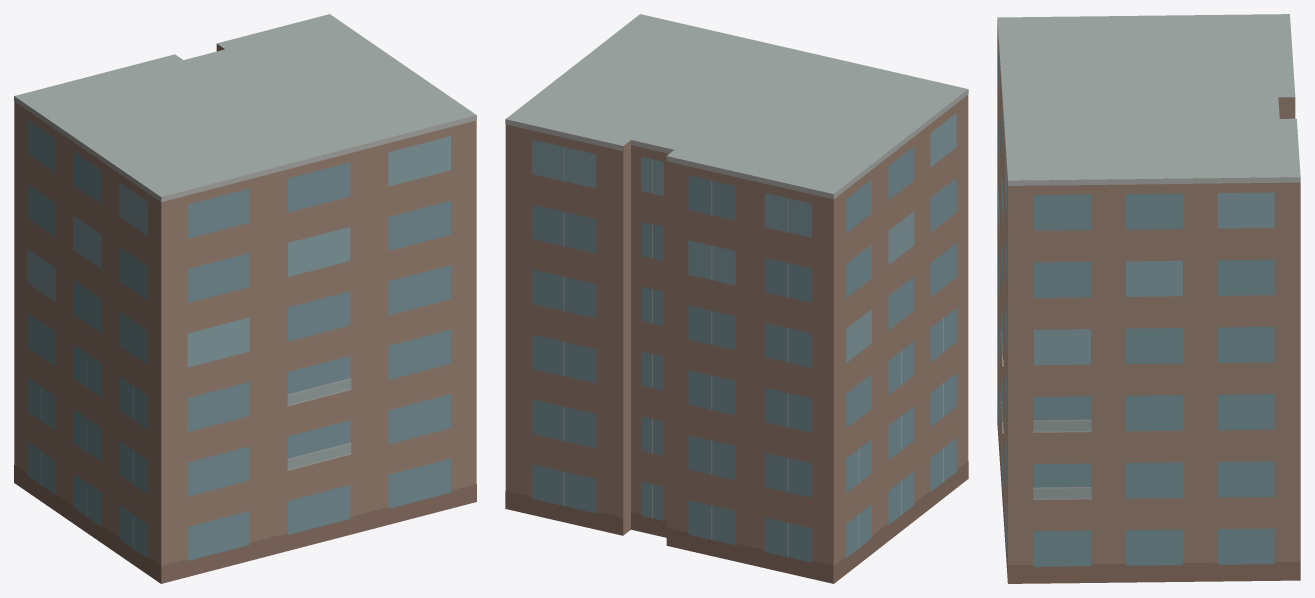
Rendered from survey-upis-32732778.glb.
3 views of the same model, side by side, from view 1: azimuth 30°, elevation 25°; view 2: azimuth 150°, elevation 25°; view 3: azimuth 270°, elevation 25° (orthographic). The views are drawn at different scales.
Parts seen in each view (by area): view 1: survey-upis-32732778.tmp; view 2: survey-upis-32732778.tmp; view 3: survey-upis-32732778.tmp.
Boxes of the visible parts, bbox=[...] form: survey-upis-32732778.tmp: bbox=[14, 14, 476, 583]; survey-upis-32732778.tmp: bbox=[505, 14, 968, 583]; survey-upis-32732778.tmp: bbox=[997, 14, 1300, 583].
Bounding box in the file's own units: 16.23 × 18.3 × 12.49.
